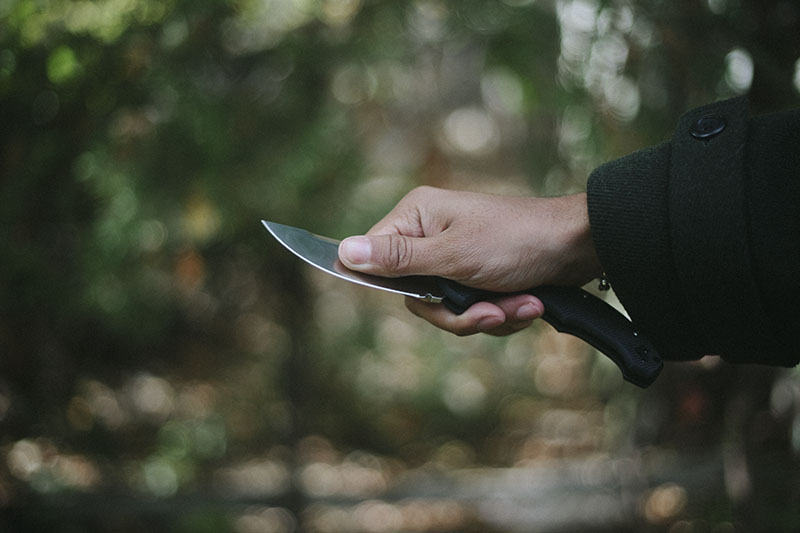knife: (254, 212, 488, 333)
